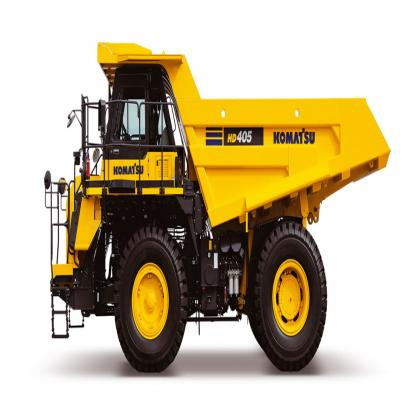dump_truck: (43, 34, 390, 380)
